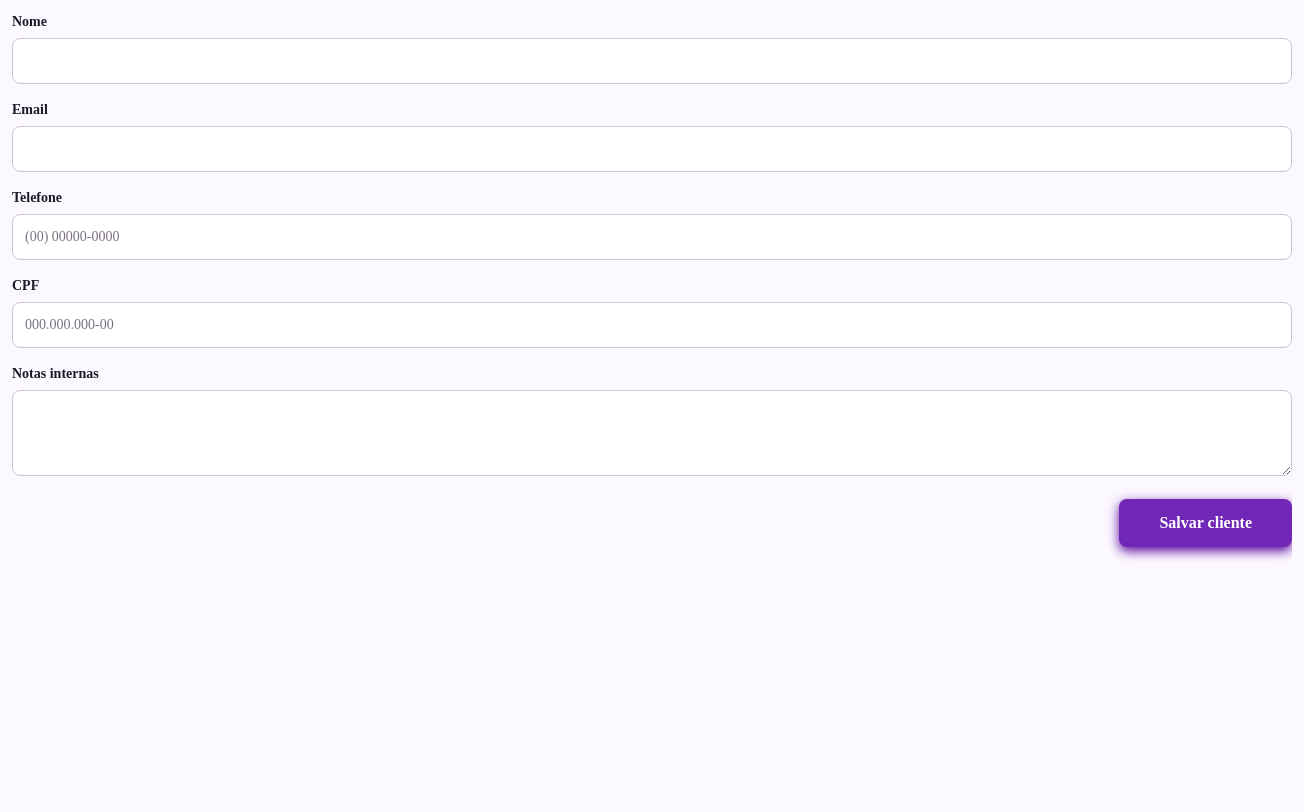
Scenario: CustomerForm › shows an action error
The image size is (1304, 812).
Type "X" into the field labelled "Nome".
click(652, 61); type("X")  # box [12,38,1292,84]
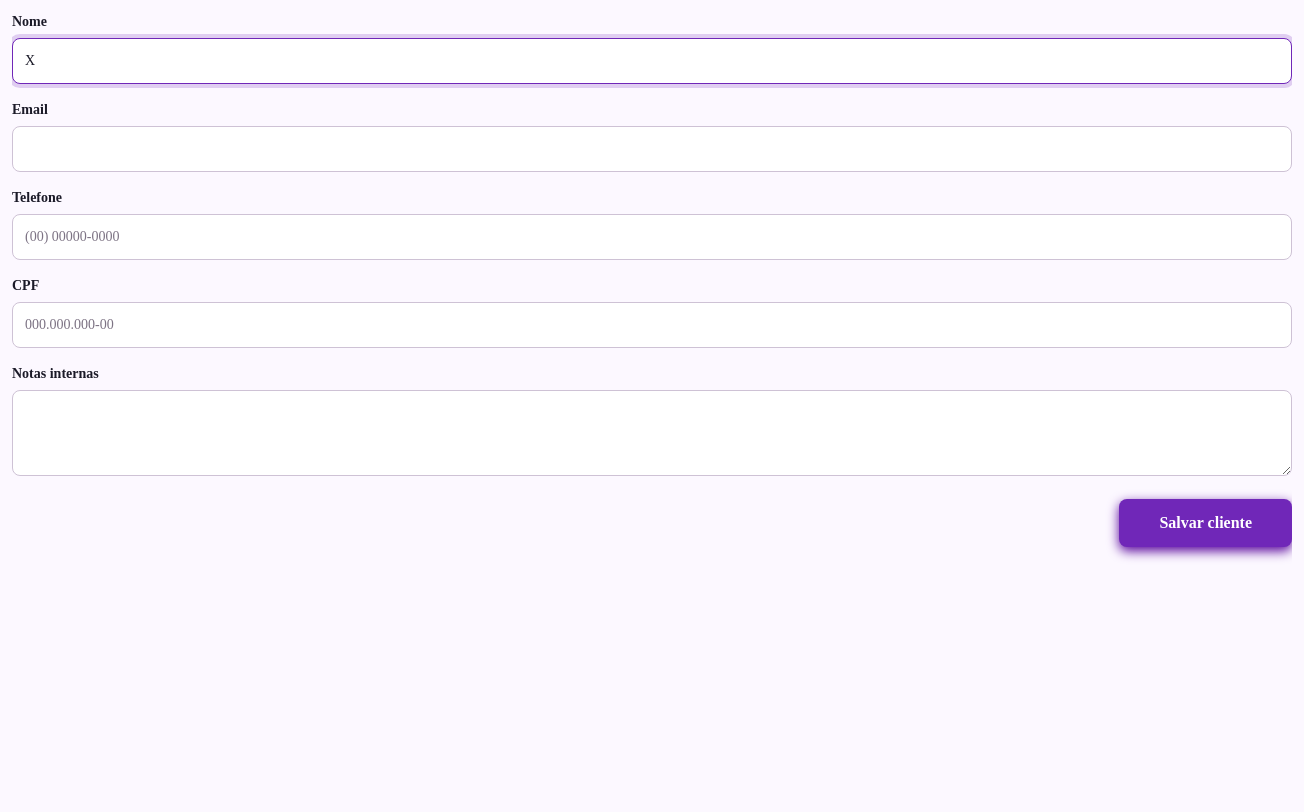
Click the button "Salvar cliente".
click(1206, 523)  # box [1119,499,1292,547]
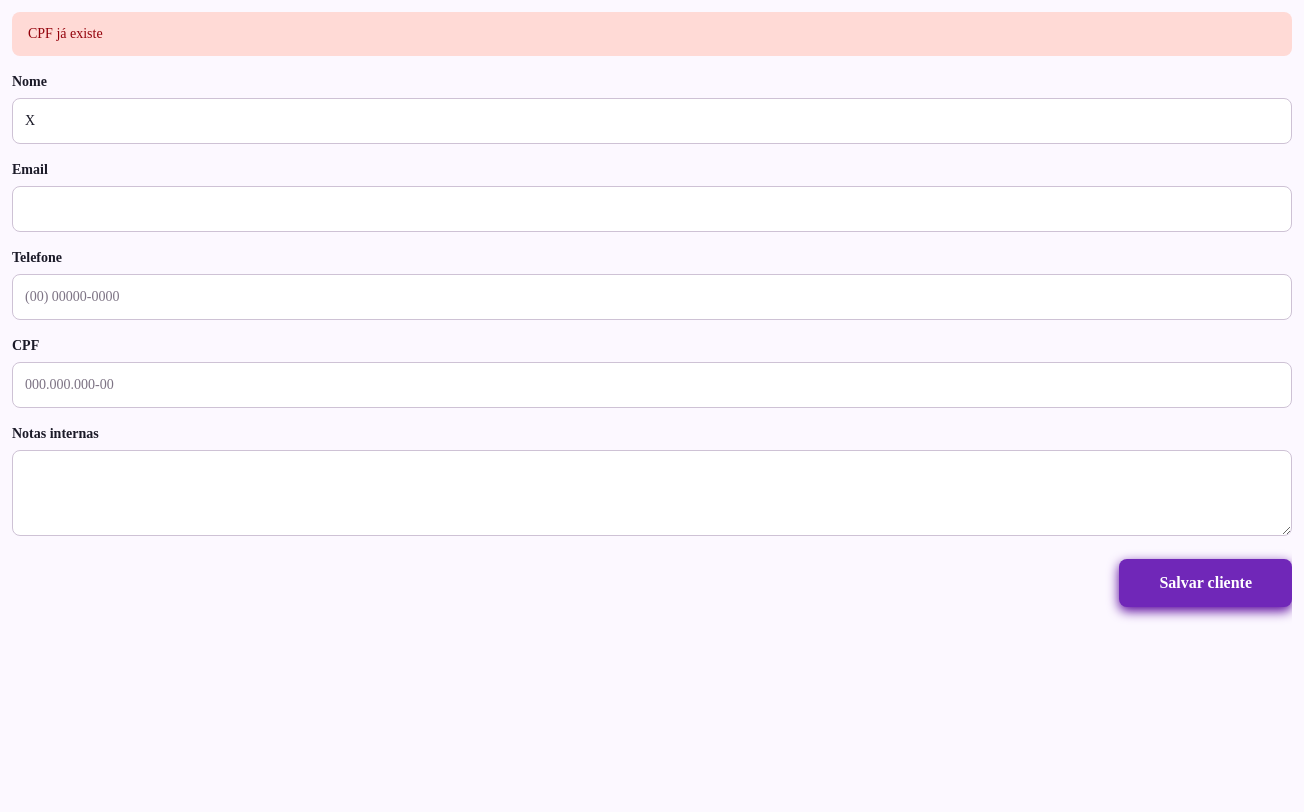
Result: the message reads "CPF já existe" at [28,26,103,41]
